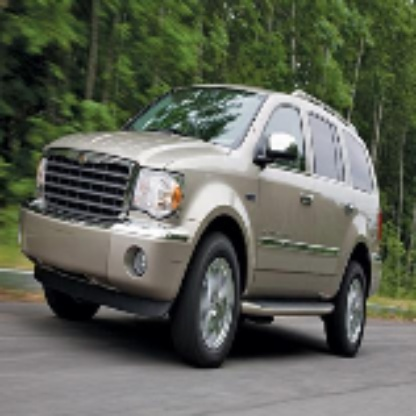Vehicle: (17, 66, 382, 364)
